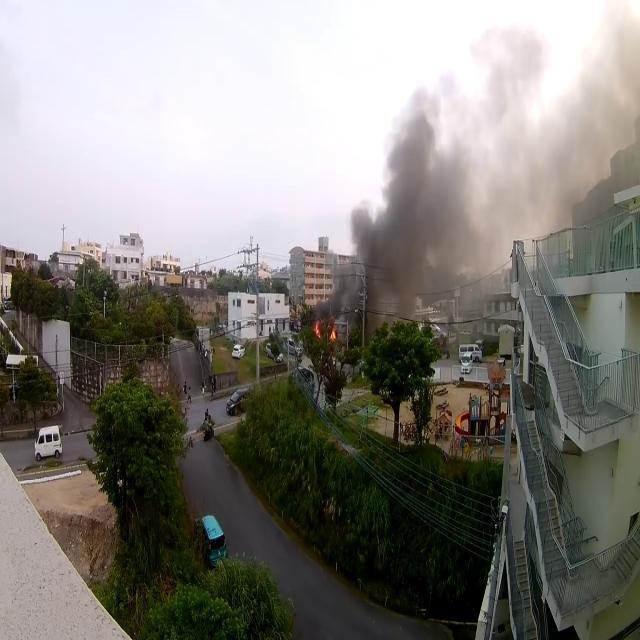Fire: (312, 316, 337, 346)
Smoke: (351, 18, 620, 312)
